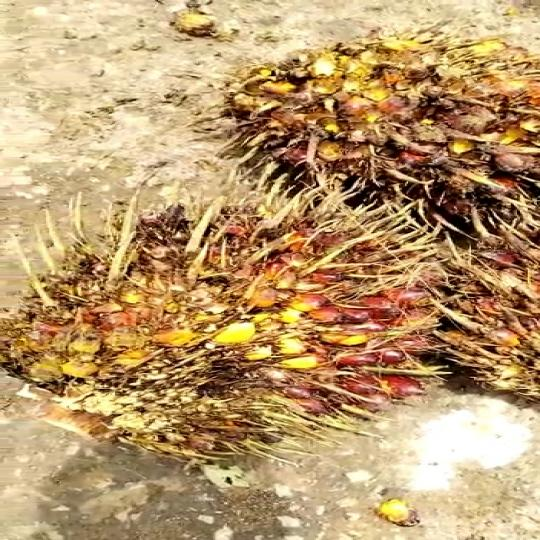masak: (0, 186, 470, 488), (219, 10, 540, 230)
